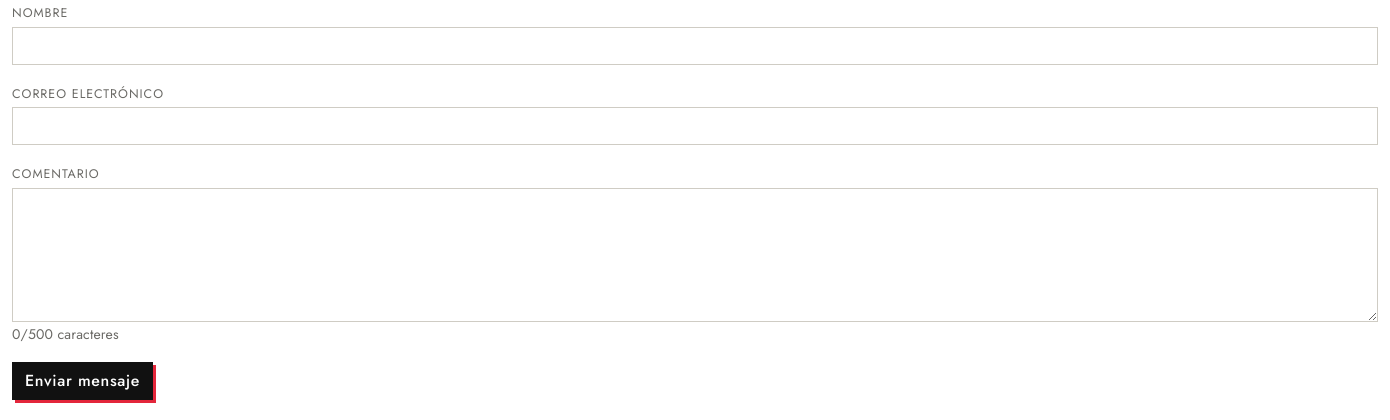
Scenario: Las 10 pruebas de la defensa › 4. FormularioContacto actualiza su estado (valor y contador) cuando el usuario escribe
Check: the text "0/500 caracteres" is shown, box [12,324,119,344]
In the text box labelled "Comentario": x=695, y=255 [12,188,1378,322], type "Hola Forever Ink"
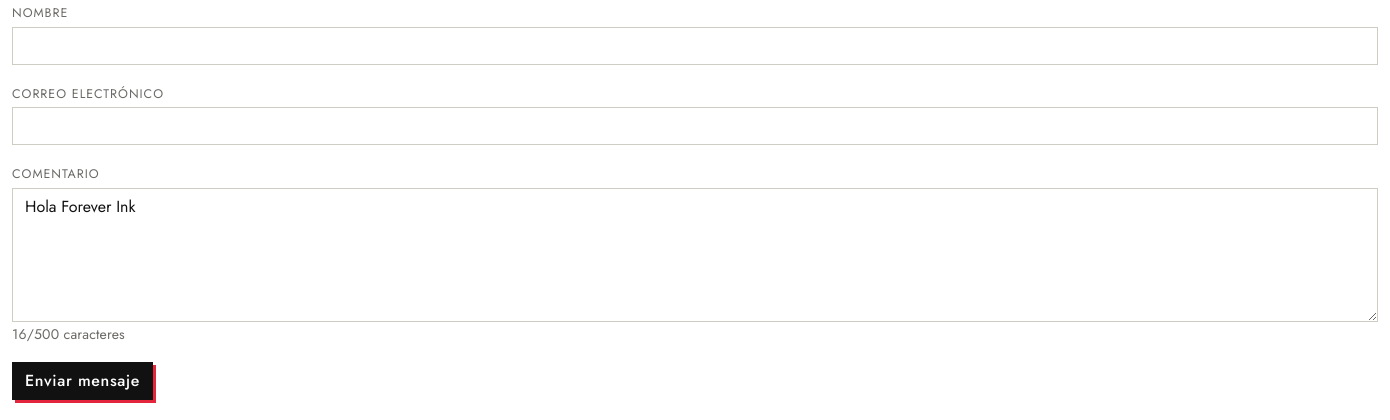
Check: the text "16/500 caracteres" is shown, box [12,324,125,344]
